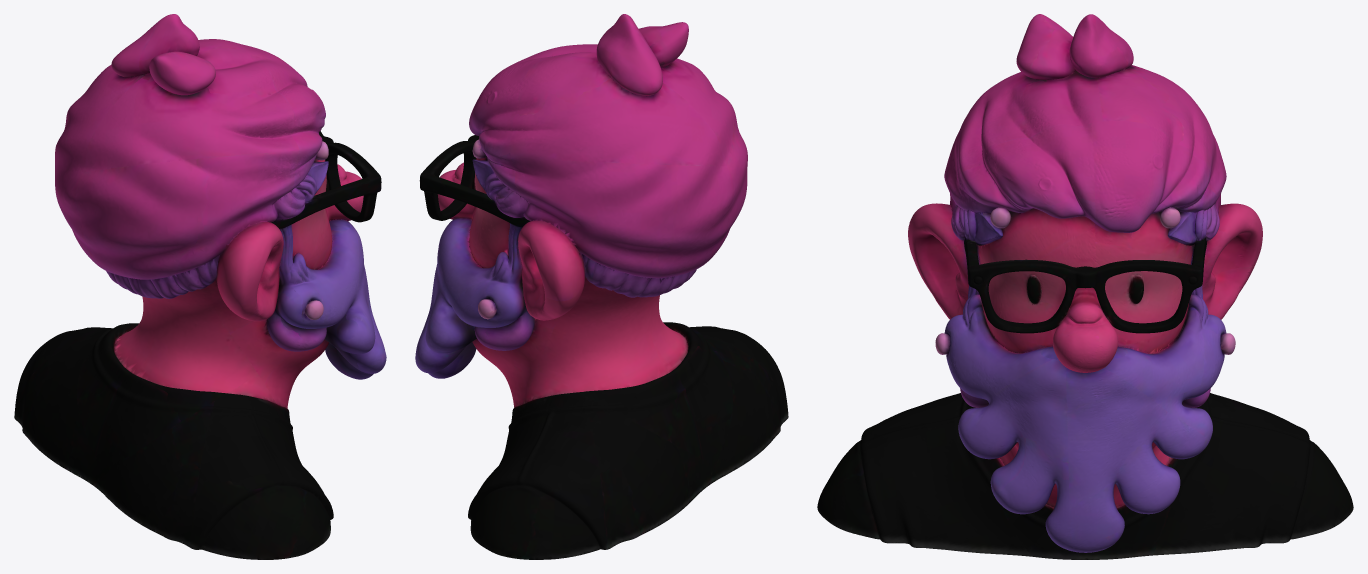
Rendered from Hero-Medium.glb.
3 renders of one model, left to right at view 1: azimuth 30°, elevation 25°; view 2: azimuth 150°, elevation 25°; view 3: azimuth 270°, elevation 25°, orthographic. The views are drawn at different scales.
Parts seen in each view (by area): view 1: tripo_node_323442f8-5f55-401a-b900-1cf3f130385b; view 2: tripo_node_323442f8-5f55-401a-b900-1cf3f130385b; view 3: tripo_node_323442f8-5f55-401a-b900-1cf3f130385b.
Part boxes in pixels (left/top/right/bottom): tripo_node_323442f8-5f55-401a-b900-1cf3f130385b: left=14, top=14, right=386, bottom=559; tripo_node_323442f8-5f55-401a-b900-1cf3f130385b: left=415, top=14, right=788, bottom=559; tripo_node_323442f8-5f55-401a-b900-1cf3f130385b: left=817, top=14, right=1353, bottom=559.
Bounding box in the file's own units: 0.6767 × 0.9779 × 0.9656.
Materials: 1 (1 with a texture image).
